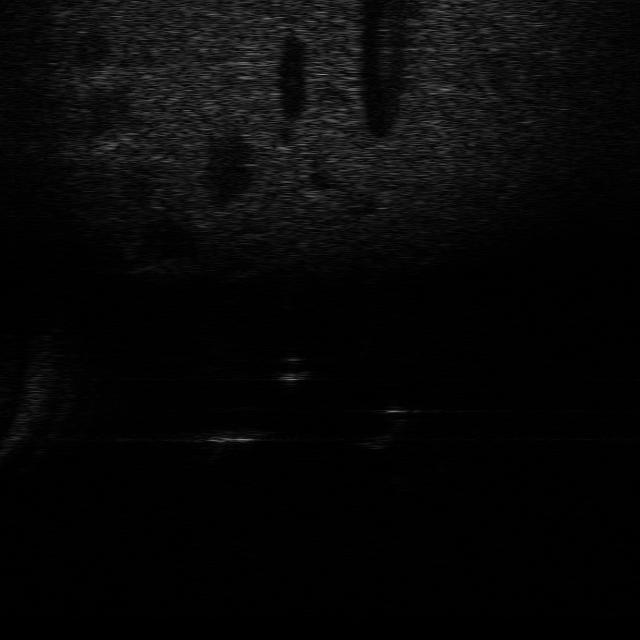ball: (265, 354, 317, 393)
square cage: (194, 420, 268, 459)
tyre: (357, 401, 415, 451)
